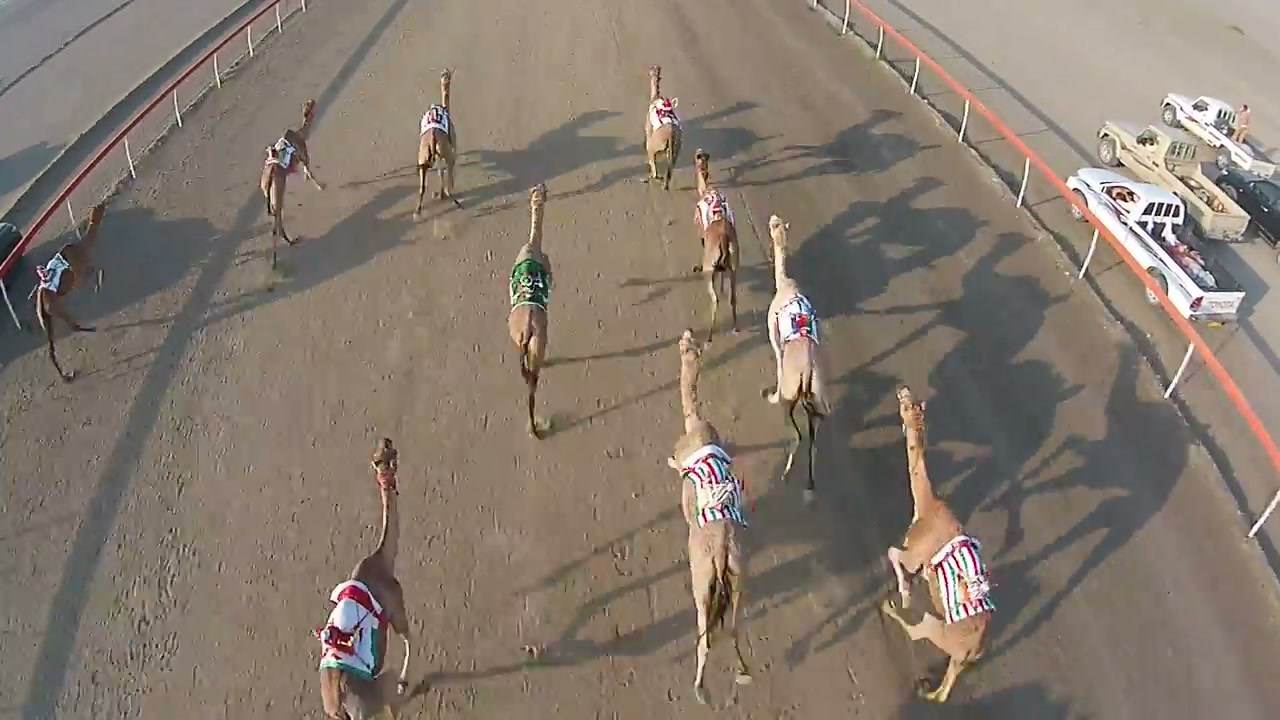animal_footprint: (78, 269, 286, 719), (551, 233, 666, 680)
